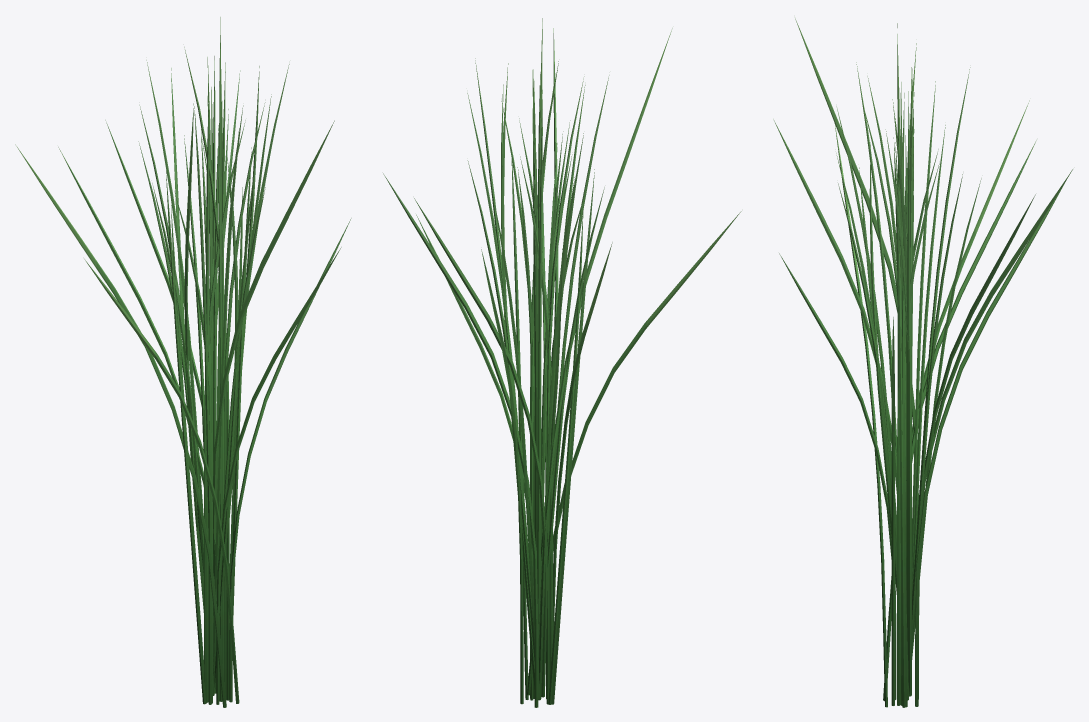
Rendered from bunga hiasan3.fbx.
The picture shows the model from 3 angles, left to right: view 1: azimuth 30°, elevation 25°; view 2: azimuth 150°, elevation 25°; view 3: azimuth 270°, elevation 25°; orthographic projection.
Parts seen in each view (by area): view 1: Object_12; view 2: Object_12; view 3: Object_12.
Part boxes in pixels (x1=…): Object_12: x1=15, y1=17, x2=351, y2=707; Object_12: x1=383, y1=18, x2=741, y2=707; Object_12: x1=773, y1=18, x2=1072, y2=707.
Bounding box in the file's own units: 599 × 1312 × 529.
Materials: 1 (1 with a texture image).
